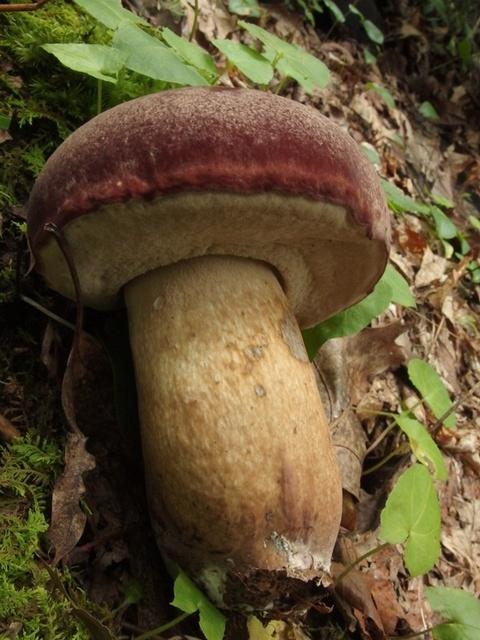poisonous_mushroom: (23, 84, 393, 622)
